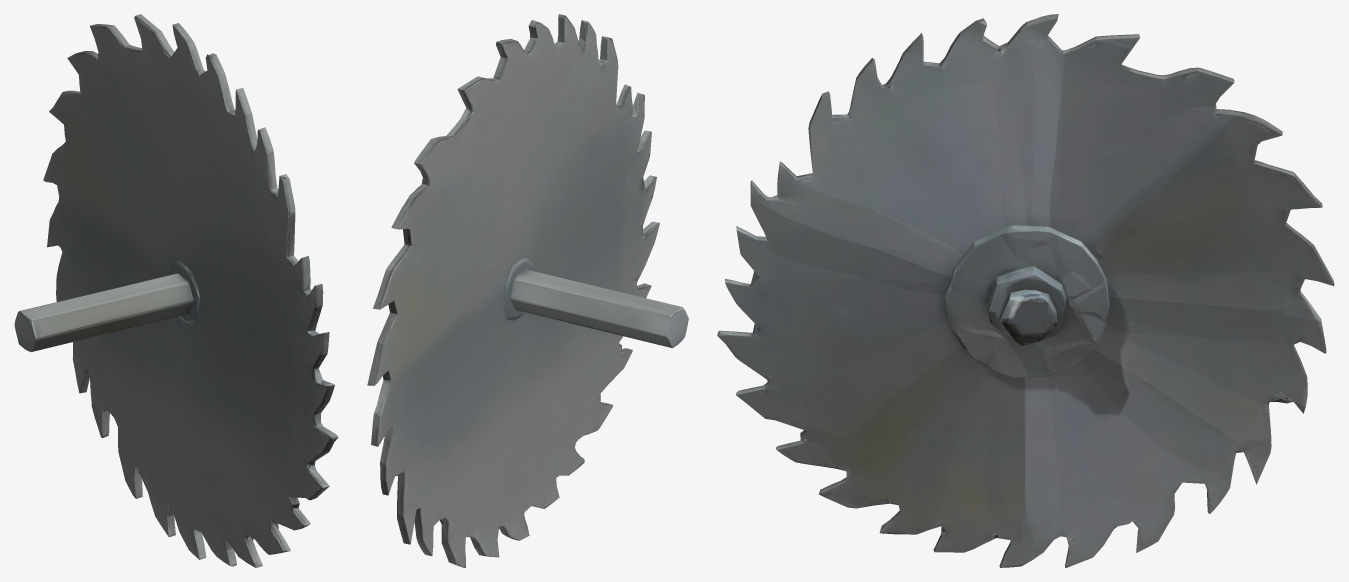
Rendered from cierra.glb.
The picture shows the model from 3 angles, left to right: view 1: azimuth 30°, elevation 25°; view 2: azimuth 150°, elevation 25°; view 3: azimuth 270°, elevation 25°; orthographic projection. The views are drawn at different scales.
Visible parts, largest first — view 1: tripo_node_ccaf8fb1-7ea1-4009-8dae-d55065416305; view 2: tripo_node_ccaf8fb1-7ea1-4009-8dae-d55065416305; view 3: tripo_node_ccaf8fb1-7ea1-4009-8dae-d55065416305.
Boxes of the visible parts, x1,y1,x2,y2 form: tripo_node_ccaf8fb1-7ea1-4009-8dae-d55065416305: (14, 14, 338, 567); tripo_node_ccaf8fb1-7ea1-4009-8dae-d55065416305: (367, 14, 688, 567); tripo_node_ccaf8fb1-7ea1-4009-8dae-d55065416305: (717, 14, 1334, 567).
Size of the model in its own units: 0.4445 by 0.9883 by 1.
1 material, 1 textured.
